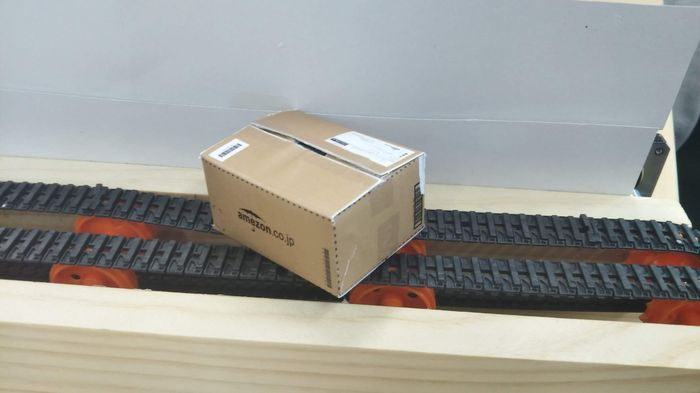box1: (198, 106, 429, 298)
